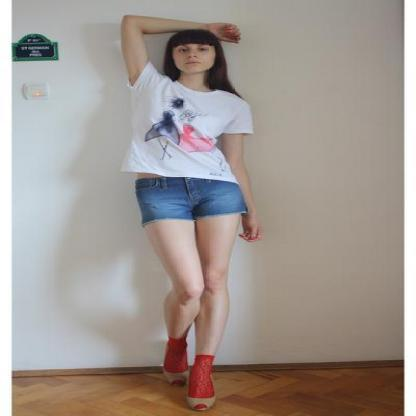shirt: (117, 63, 252, 182)
shoe: (148, 341, 226, 415)
shorts: (135, 176, 247, 223)
